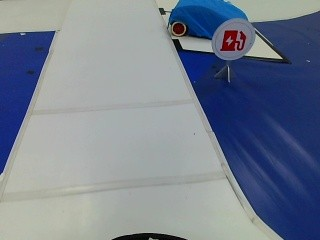battery: (217, 24, 252, 60)
car: (164, 0, 246, 39)
